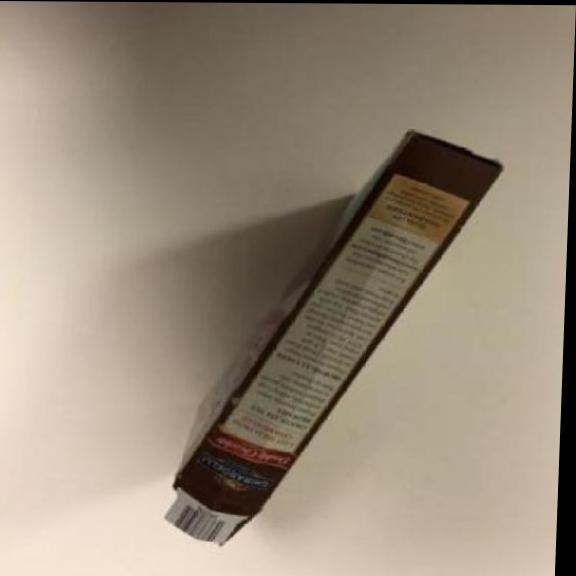Kertas: (166, 131, 500, 542)
